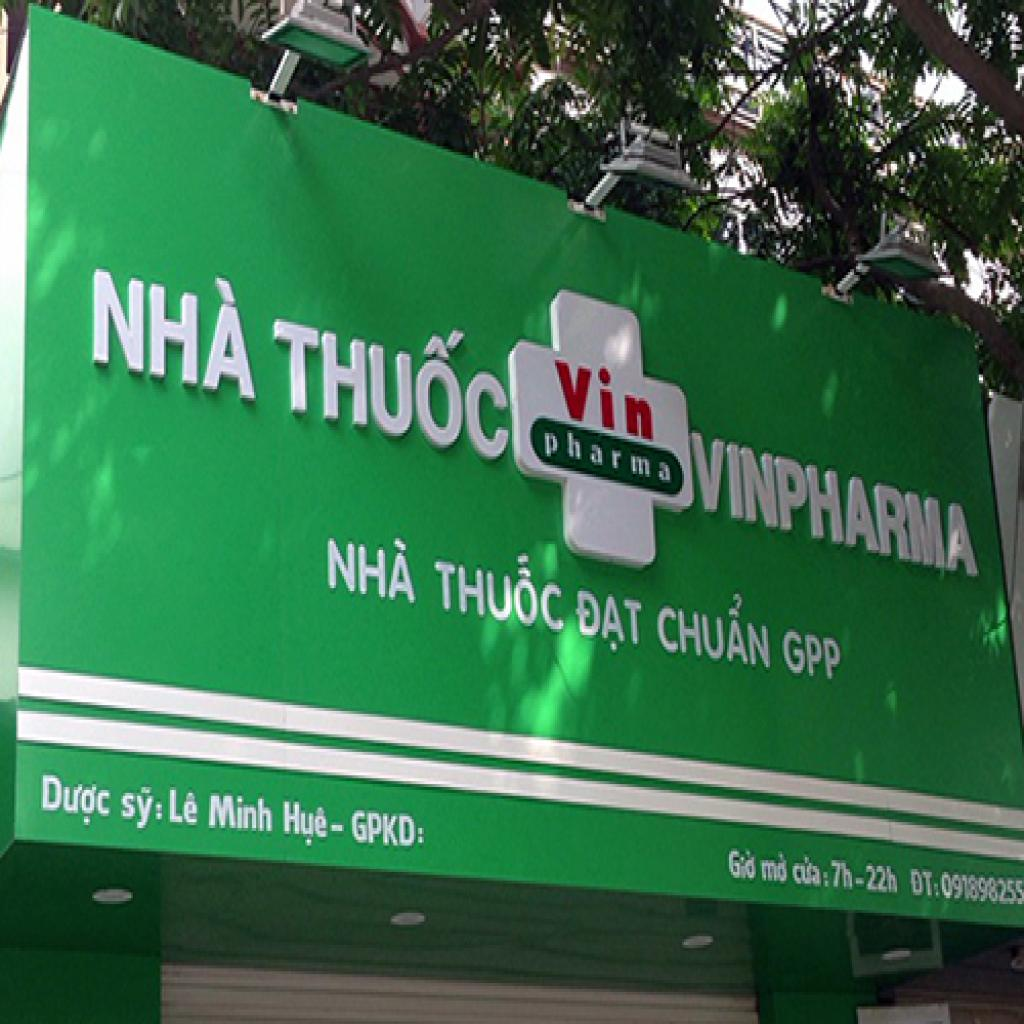text: (688, 427, 981, 579), (268, 293, 510, 465), (86, 240, 262, 404), (430, 538, 565, 632), (658, 579, 776, 676), (553, 348, 657, 442), (319, 520, 422, 606), (570, 585, 648, 664), (780, 620, 846, 688), (41, 769, 113, 831), (348, 808, 430, 854), (207, 784, 276, 837), (280, 790, 334, 851), (117, 781, 166, 834), (168, 781, 203, 828), (790, 854, 832, 892), (727, 842, 760, 884), (909, 863, 944, 901), (862, 863, 901, 895), (760, 852, 790, 886), (830, 858, 856, 892), (541, 422, 561, 462), (629, 453, 655, 480), (565, 427, 584, 462), (590, 439, 606, 471), (657, 459, 674, 486), (608, 448, 625, 474)
